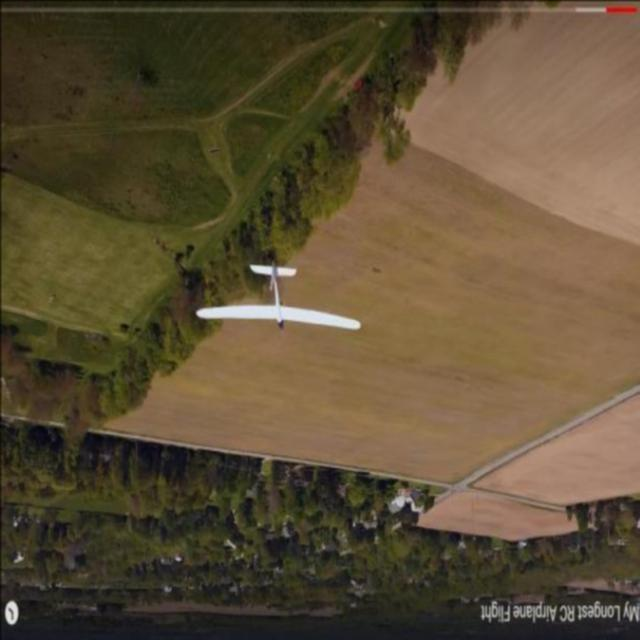plane: (193, 258, 360, 332)
